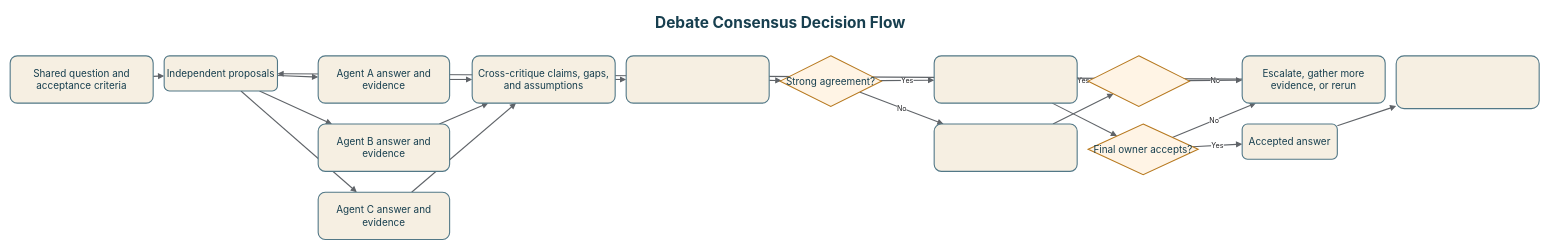
Image size: 1549x249. Some labels were removed from this diagram. The shapes that lost their labels are listed below. From the top down, each one's box as (x1, y1, x2, y2) in pixels, then its label:
(625, 55, 769, 103): Judge scores evidence, tests, and policy fit
(933, 55, 1077, 103): Synthesize answer with cited evidence
(1087, 55, 1190, 107): Can owner decide?
(1395, 55, 1539, 109): Trace proposals, critiques, votes, dissent, and decision rule
(933, 123, 1077, 172): Record dissent and unresolved risks
